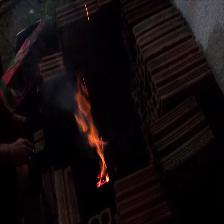fire: (67, 70, 114, 186)
